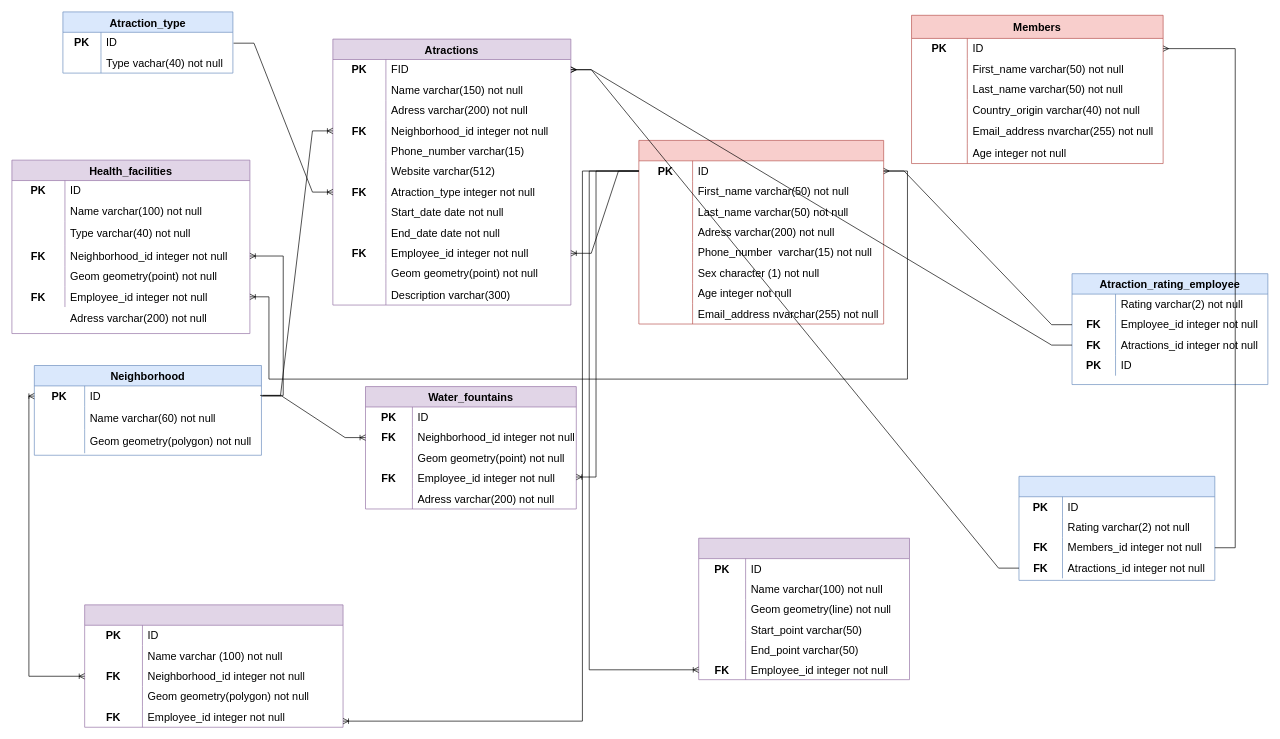
The diagram is 1280 pixels wide and 739 high, and some of its shapes have lost their labels. Each missing label, with the box of its shape:
Atraction_rating_members: (1018, 476, 1215, 580)
Employee: (638, 140, 884, 324)
Parks: (84, 604, 343, 727)
Tourist_routes: (698, 538, 910, 680)
